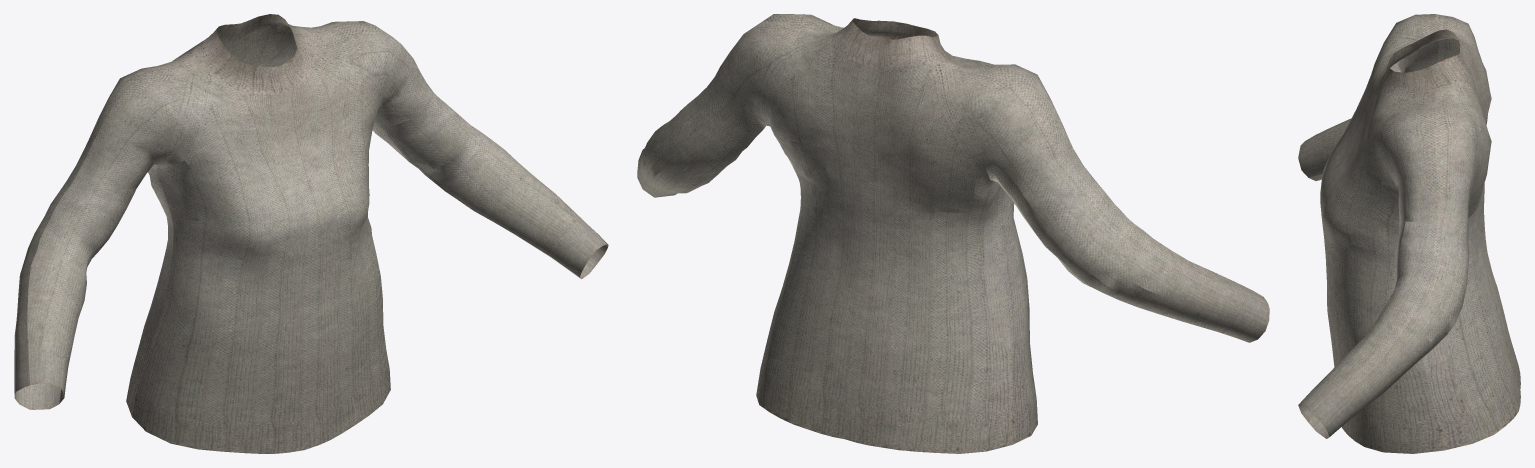
File: mindfront-knitted-sweater-01.glb
3 views of the same model, side by side, from view 1: azimuth 30°, elevation 25°; view 2: azimuth 150°, elevation 25°; view 3: azimuth 270°, elevation 25° (orthographic). The views are drawn at different scales.
Visible parts, largest first — view 1: knitted sweater 01; view 2: knitted sweater 01; view 3: knitted sweater 01.
Boxes of the visible parts, x1,y1,x2,y2 form: knitted sweater 01: (14,14,608,453); knitted sweater 01: (637,14,1269,453); knitted sweater 01: (1298,14,1520,453).
Size of the model in its own units: 91.58 by 57.13 by 30.97.
Materials: 1 (1 with a texture image).
